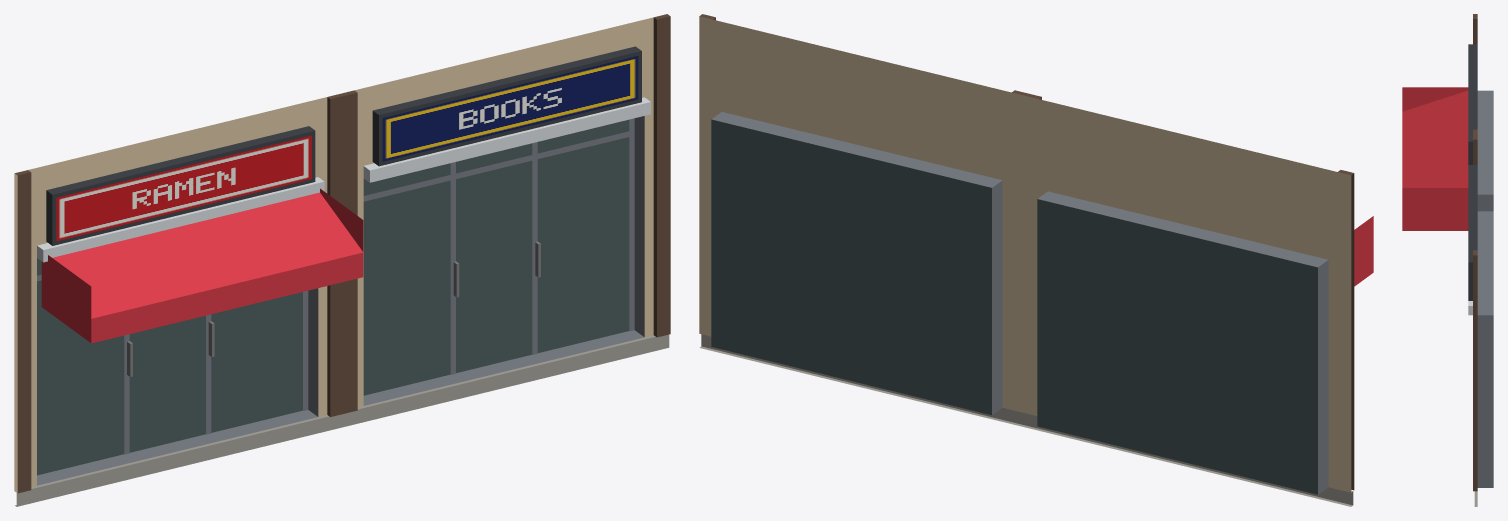
File: base-w1_close.fbx
The picture shows the model from 3 angles, left to right: view 1: azimuth 30°, elevation 25°; view 2: azimuth 150°, elevation 25°; view 3: azimuth 270°, elevation 25°; orthographic projection. The views are drawn at different scales.
Visible parts, largest first — view 1: a2009/200/base-w1_close; view 2: a2009/200/base-w1_close; view 3: a2009/200/base-w1_close.
Part boxes in pixels (x1=…): a2009/200/base-w1_close: x1=14, y1=14, x2=670, y2=506; a2009/200/base-w1_close: x1=699, y1=14, x2=1373, y2=506; a2009/200/base-w1_close: x1=1402, y1=14, x2=1493, y2=506.
Size of the model in its own units: 7.2 by 3.5 by 1.15.
